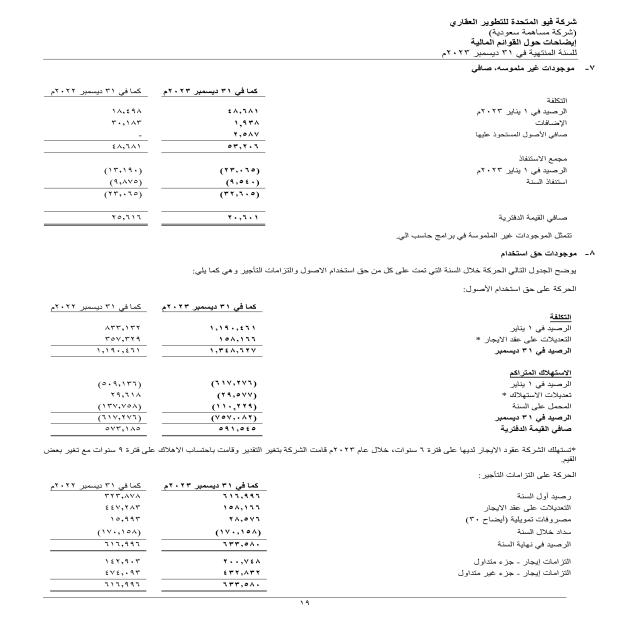notes: (441, 37, 579, 49)
table: (23, 80, 280, 241), (24, 300, 288, 441), (25, 478, 281, 594)
